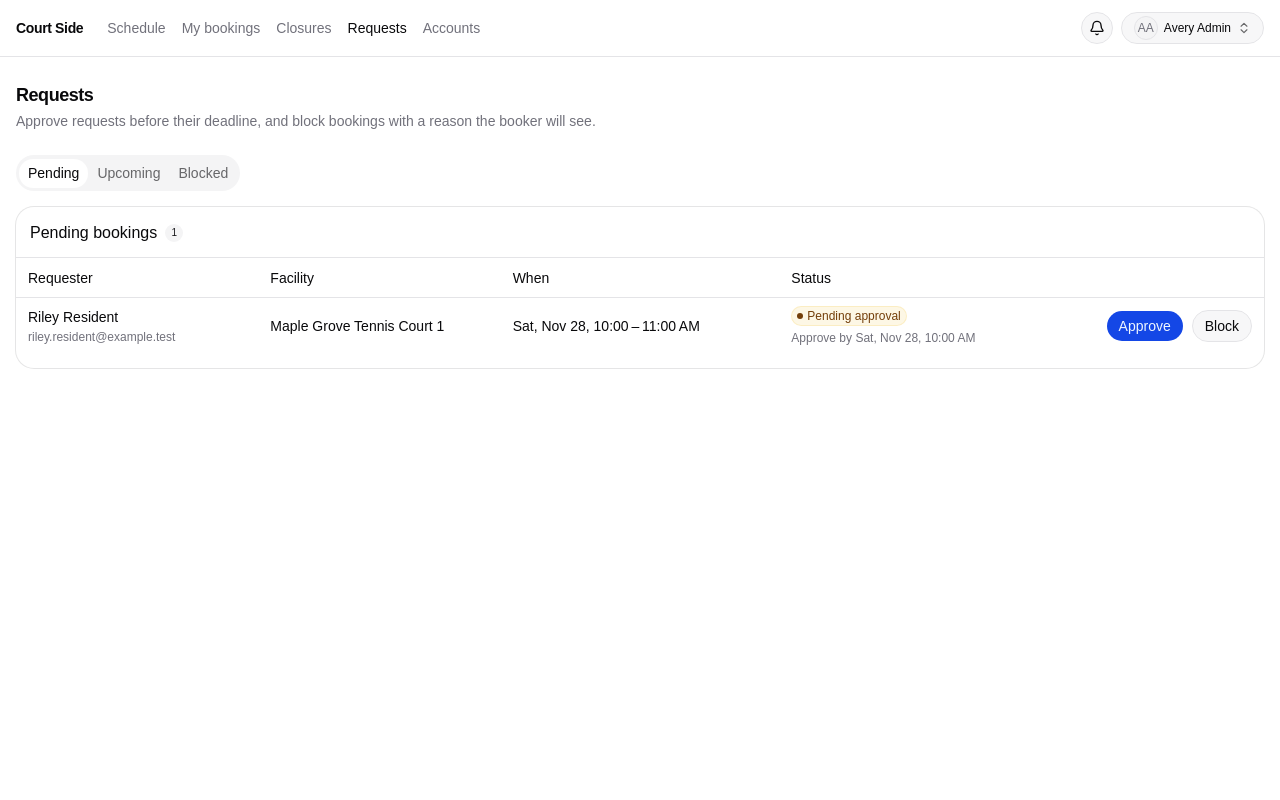
Admin requests › approves a pending request
The image size is (1280, 800).
Click the button with aria-label "Approve Riley Resident" at {"x": 1145, "y": 326}, box [1106,310,1184,342]
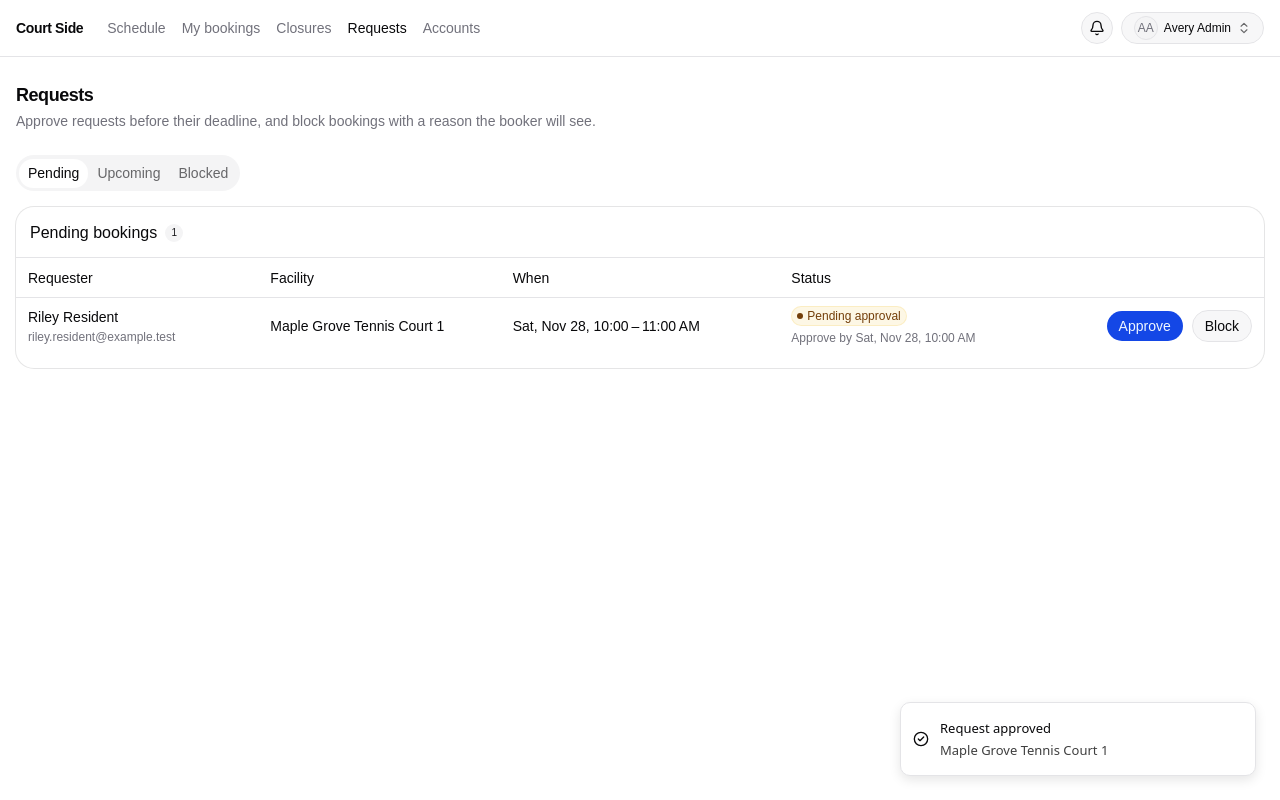
Expected: the text "Request approved" is shown, [940,719,1051,737]
